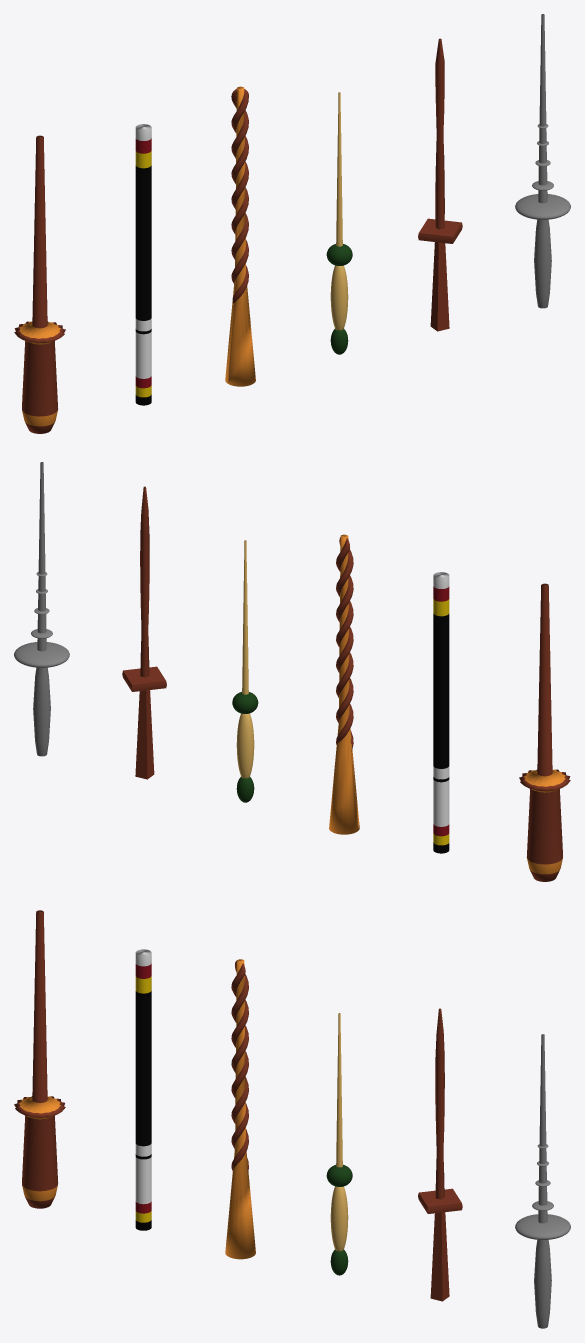
File: wands.fbx
3 views of the same model, one above another, from view 1: azimuth 30°, elevation 25°; view 2: azimuth 150°, elevation 25°; view 3: azimuth 330°, elevation 25° (orthographic).
Parts seen in each view (by area): view 1: Cylinder, Circle, Cylinder.001, Cylinder.005, Cylinder.004, Cylinder.003; view 2: Cylinder, Circle, Cylinder.001, Cylinder.005, Cylinder.004, Cylinder.003; view 3: Cylinder, Circle, Cylinder.001, Cylinder.005, Cylinder.004, Cylinder.003.
Part boxes in pixels (bbox=[...]): Cylinder: bbox=[14, 135, 65, 433]; Circle: bbox=[225, 86, 255, 386]; Cylinder.001: bbox=[135, 124, 151, 405]; Cylinder.005: bbox=[515, 14, 570, 308]; Cylinder.004: bbox=[418, 38, 462, 331]; Cylinder.003: bbox=[326, 92, 352, 354]; Cylinder: bbox=[519, 583, 570, 881]; Circle: bbox=[329, 534, 359, 834]; Cylinder.001: bbox=[433, 572, 449, 853]; Cylinder.005: bbox=[14, 462, 69, 756]; Cylinder.004: bbox=[122, 486, 166, 779]; Cylinder.003: bbox=[232, 540, 258, 802]; Cylinder: bbox=[14, 910, 65, 1208]; Circle: bbox=[225, 959, 255, 1259]; Cylinder.001: bbox=[135, 949, 151, 1230]; Cylinder.005: bbox=[515, 1034, 570, 1328]; Cylinder.004: bbox=[418, 1008, 462, 1301]; Cylinder.003: bbox=[326, 1013, 352, 1275].
Bounding box in the file's own units: 552 × 280 × 48.67.
